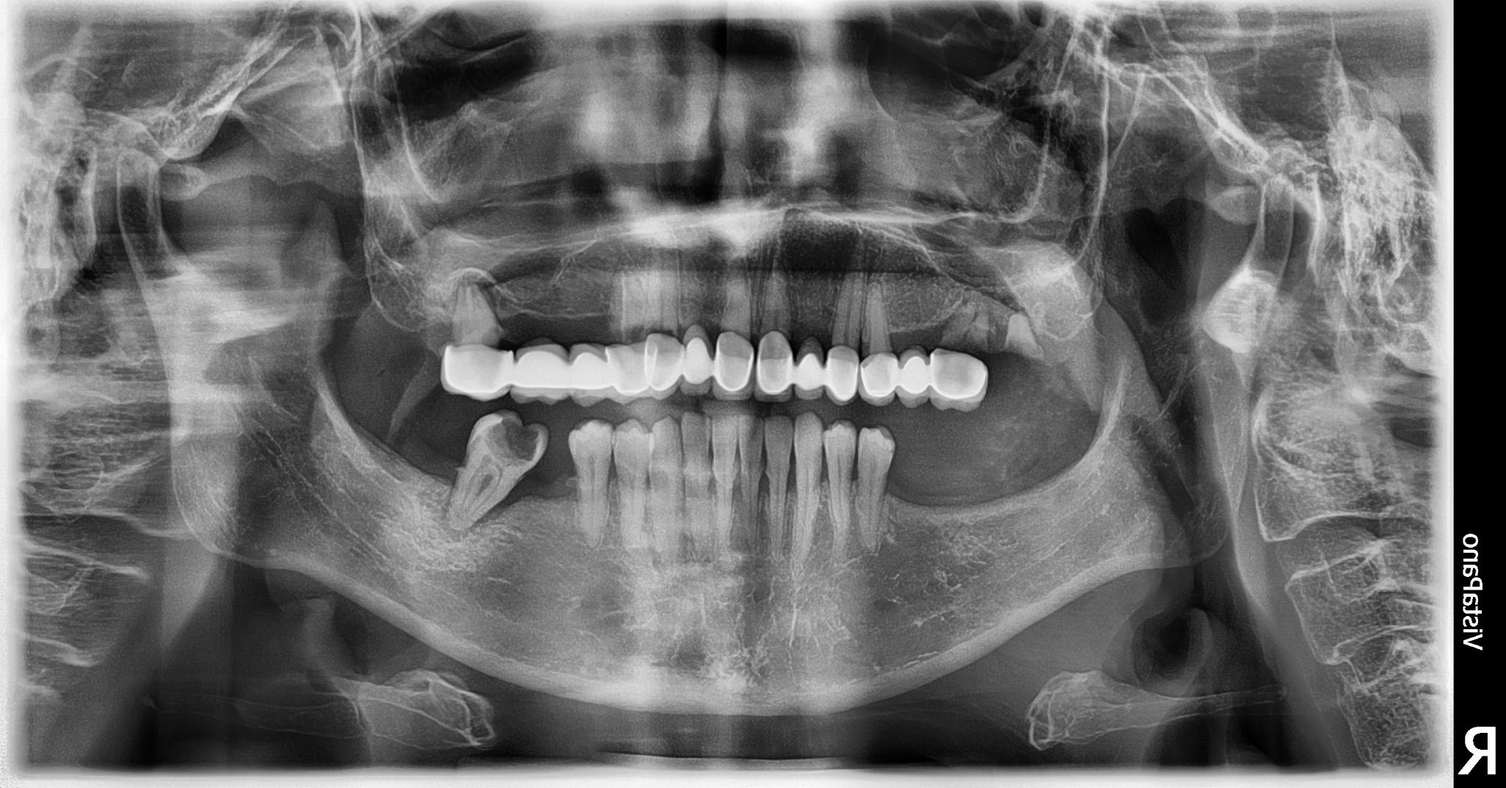Premolars: (456, 222, 1342, 641), (539, 203, 1506, 505), (292, 213, 795, 615), (272, 197, 756, 462)
